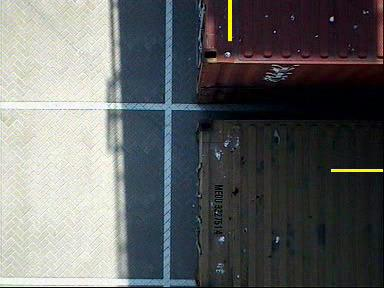groundmarker_2: (127, 51, 231, 117)
